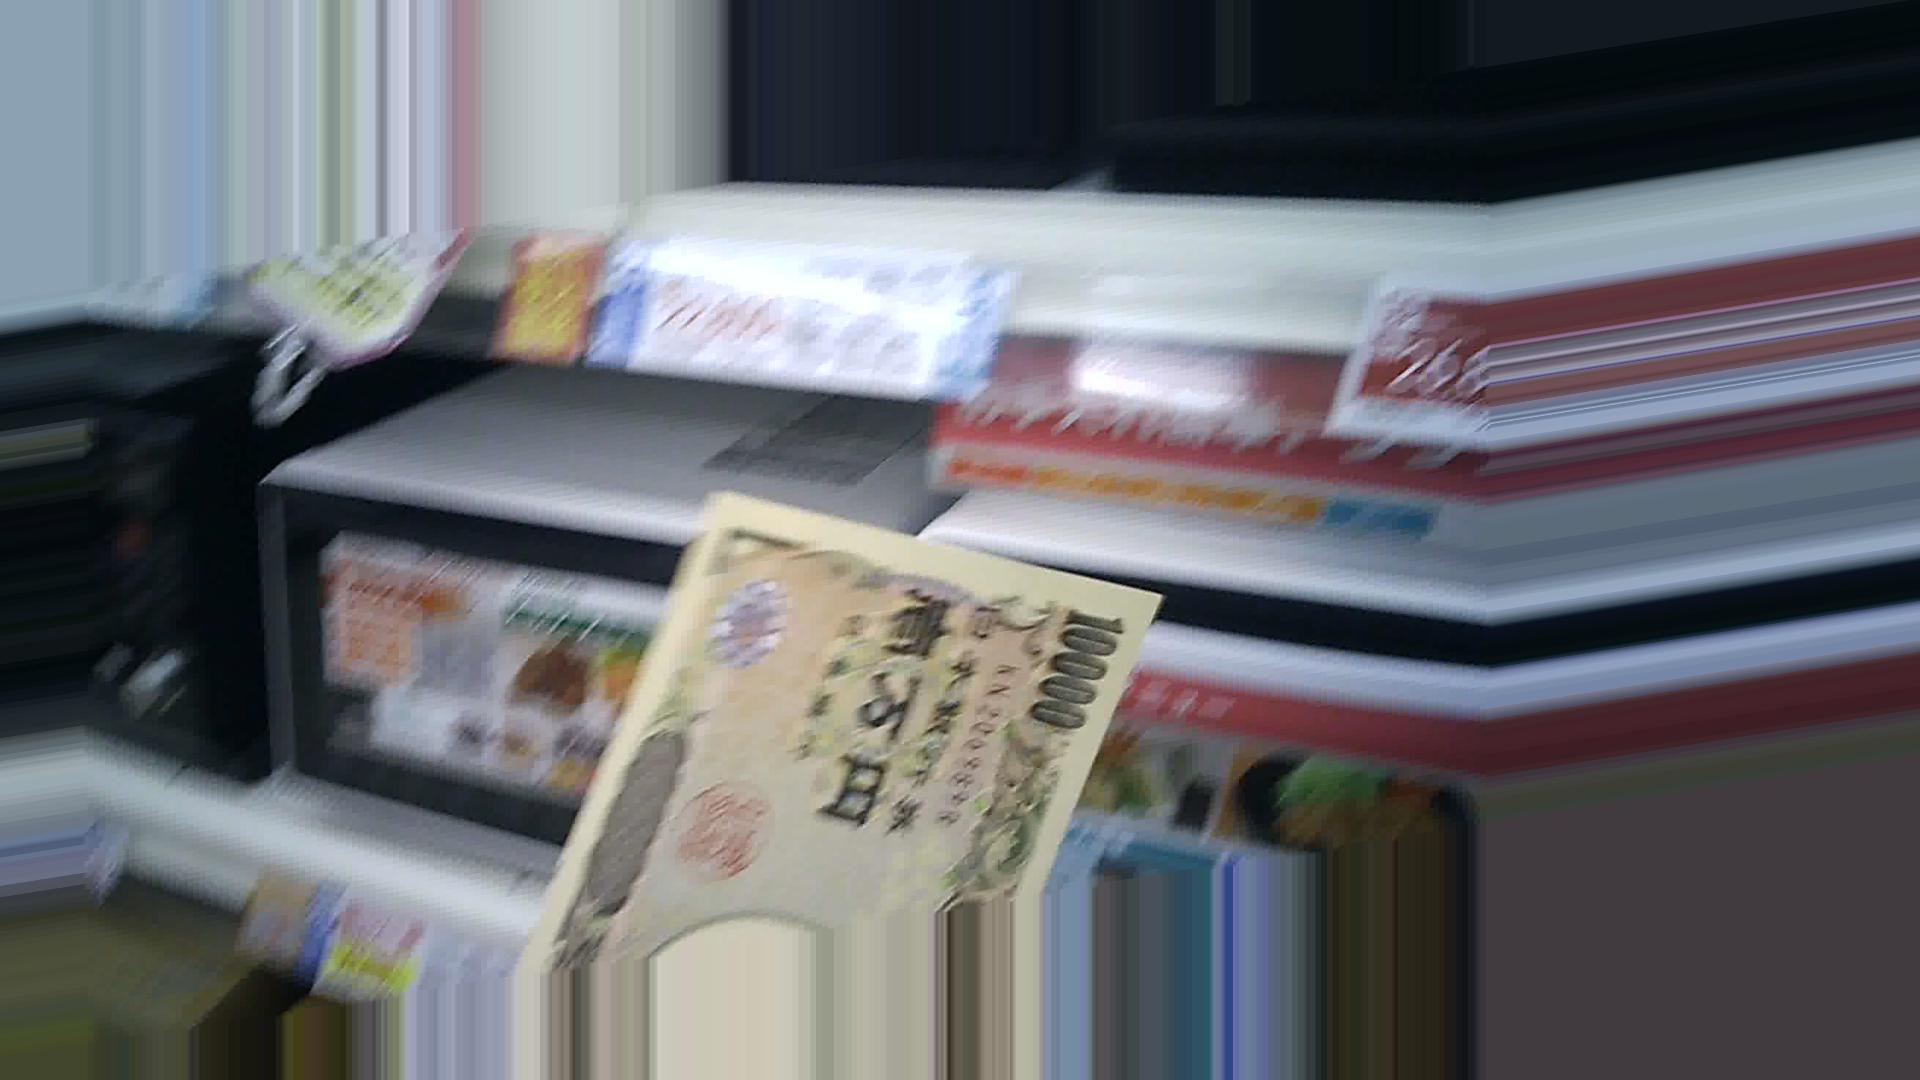10,000 Yen: (529, 464, 1155, 955)
